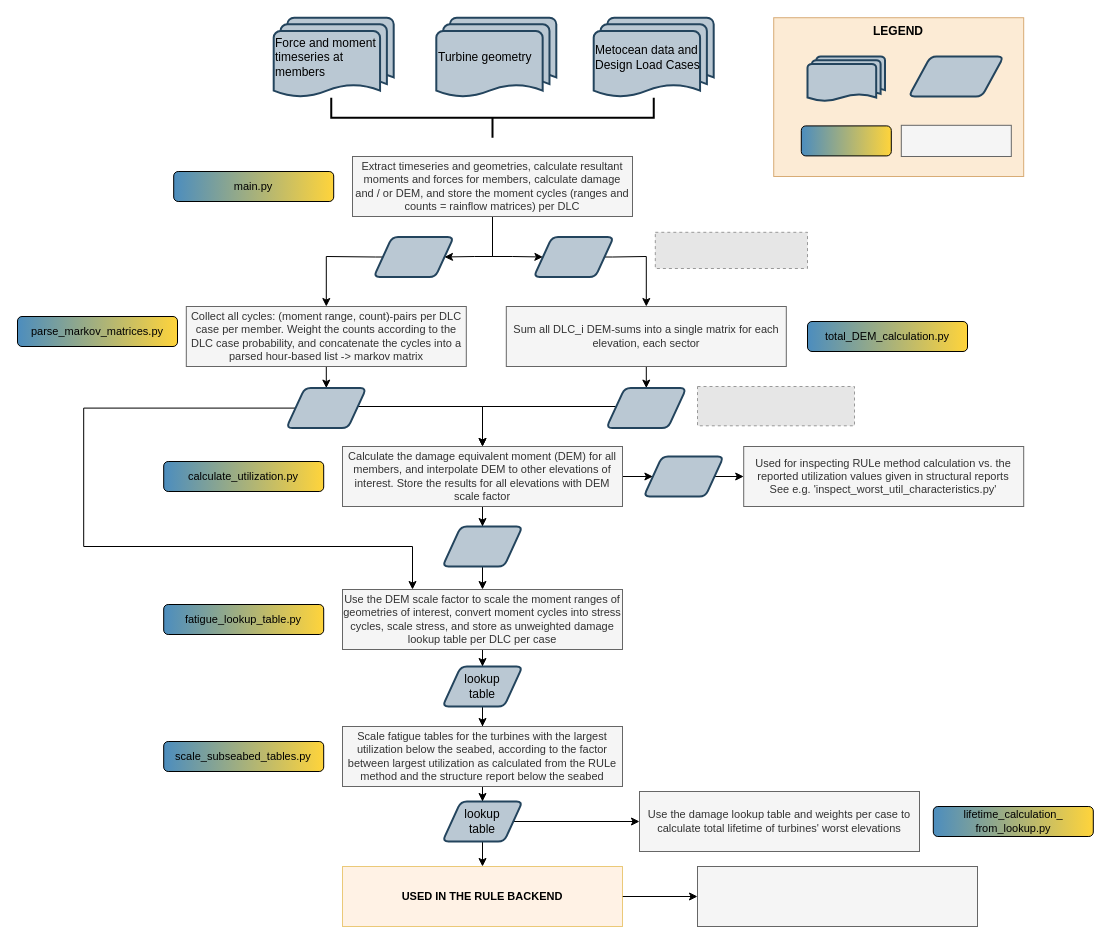
Image size: 1111x945. Some labels were removed from this diagram. Grey dashed boxes stand in for pictures. Here are the shapes that lost their labels. From the top down, the box of each, then its label:
(806, 55, 886, 102): design data
(907, 55, 1004, 97): data- structures
(800, 125, 891, 156): python scripts
(900, 124, 1011, 156): Function descriptions
(372, 236, 454, 278): rainflow matrices
(532, 236, 614, 278): DEM per DLC/case
(285, 387, 367, 429): total markov
(605, 387, 687, 429): combined DEM
(642, 455, 724, 497): all utilizations
(441, 525, 523, 567): worst utilization
(696, 866, 978, 926): Inspect the resulting distribution of lifetimes with DB_lifetime_summary.ipynb
